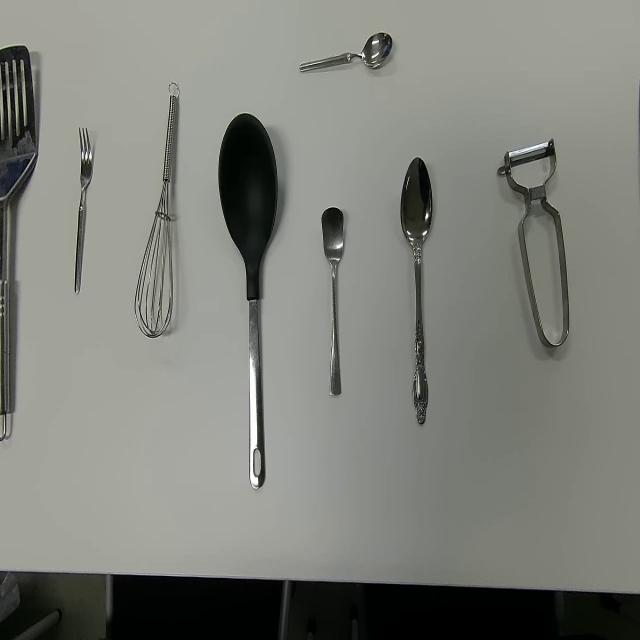Desert-Spoon: (399, 155, 434, 428)
Dinner-Fork: (73, 126, 93, 296)
Peeler: (497, 137, 570, 350)
Serving-Spoon: (217, 110, 279, 490), (0, 42, 37, 444)
Tea-Spoon: (321, 205, 345, 397), (298, 30, 394, 74)
Whisk: (133, 80, 180, 340)
